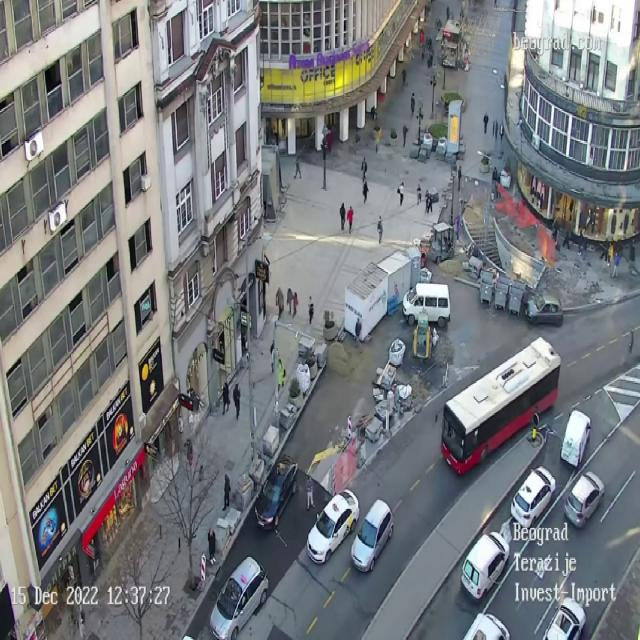bus: (440, 335, 561, 476)
car: (209, 555, 269, 639), (460, 530, 510, 601), (254, 454, 298, 530), (350, 498, 394, 573), (311, 489, 356, 558), (510, 466, 556, 530), (563, 471, 605, 528), (542, 597, 586, 639), (406, 284, 450, 324), (562, 409, 588, 469), (463, 612, 510, 640)
